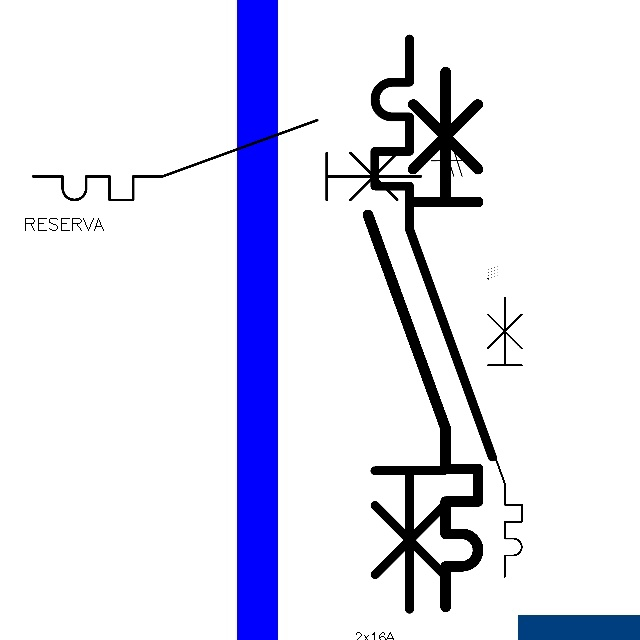interruptor_termomagnetico: (360, 24, 507, 624), (354, 58, 492, 621), (23, 110, 430, 210), (457, 290, 529, 583)
